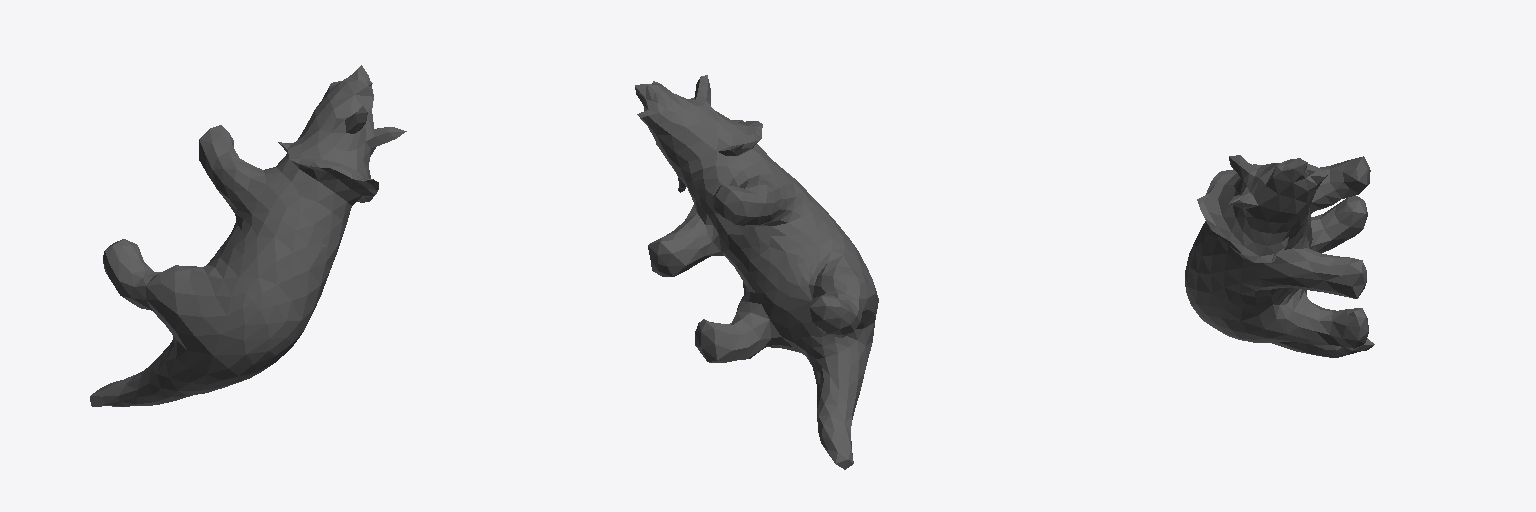
Rendered from triceratops.obj.
3 renders of one model, left to right at view 1: azimuth 30°, elevation 25°; view 2: azimuth 150°, elevation 25°; view 3: azimuth 270°, elevation 25°, orthographic.
Size of the model in its own units: 23.23 by 27.06 by 15.35.